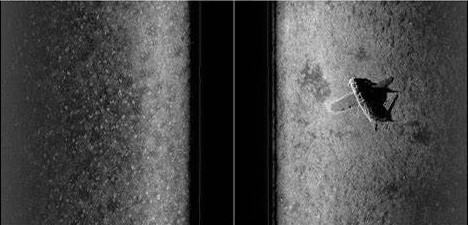plane: (328, 74, 396, 127)
